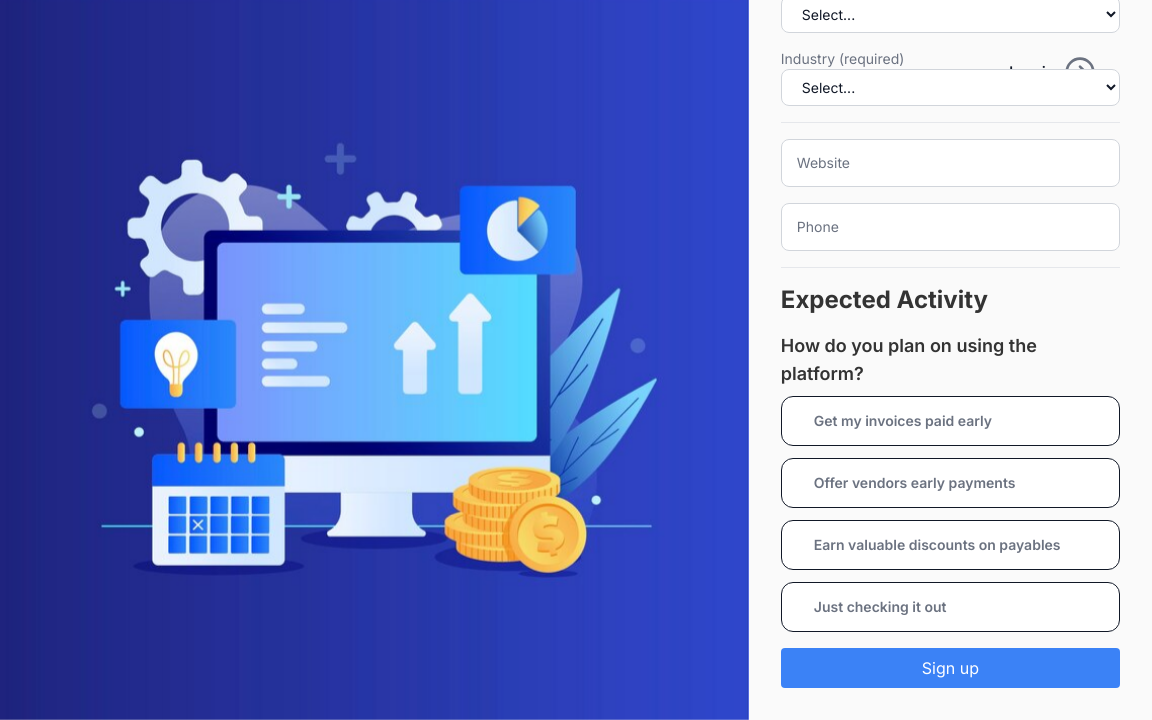
Test case: SignupForm › displays validation errors for empty fields
(page scrolled)
Click the button "Sign up": click(950, 668) [781,648,1120,688]
(page scrolled)
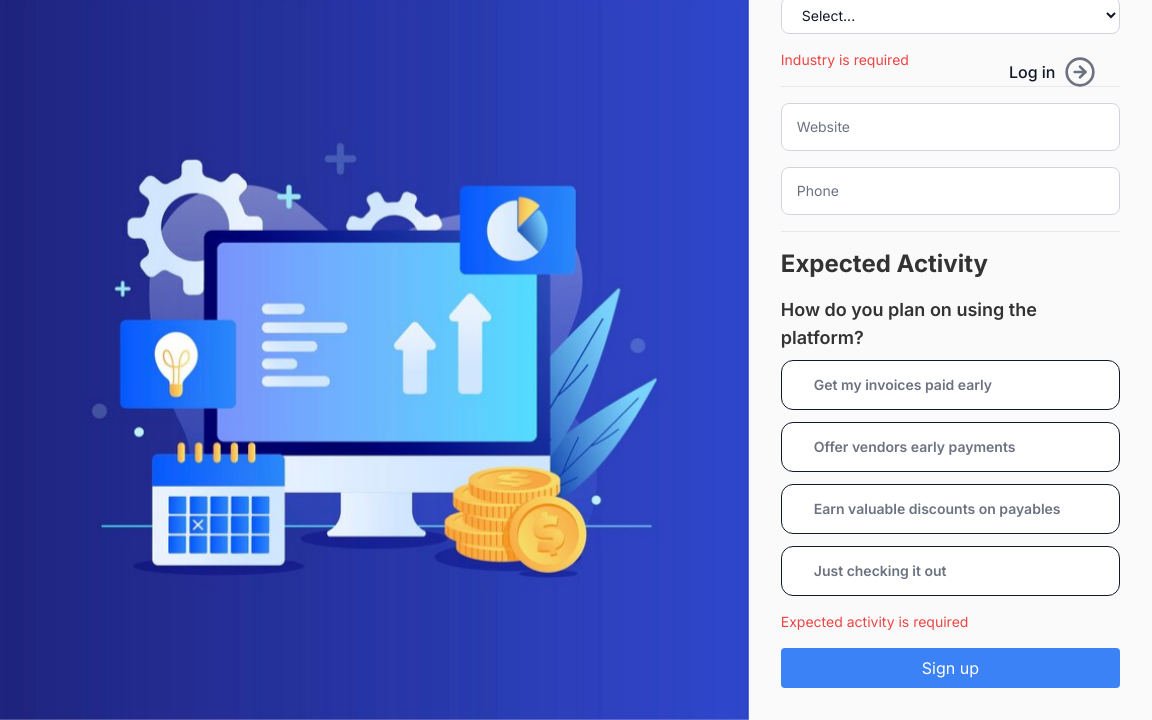
Now the text "Industry is required" is shown, box [781,51,909,68]
Now the text "Expected activity is required" is shown, box [781,613,968,630]
